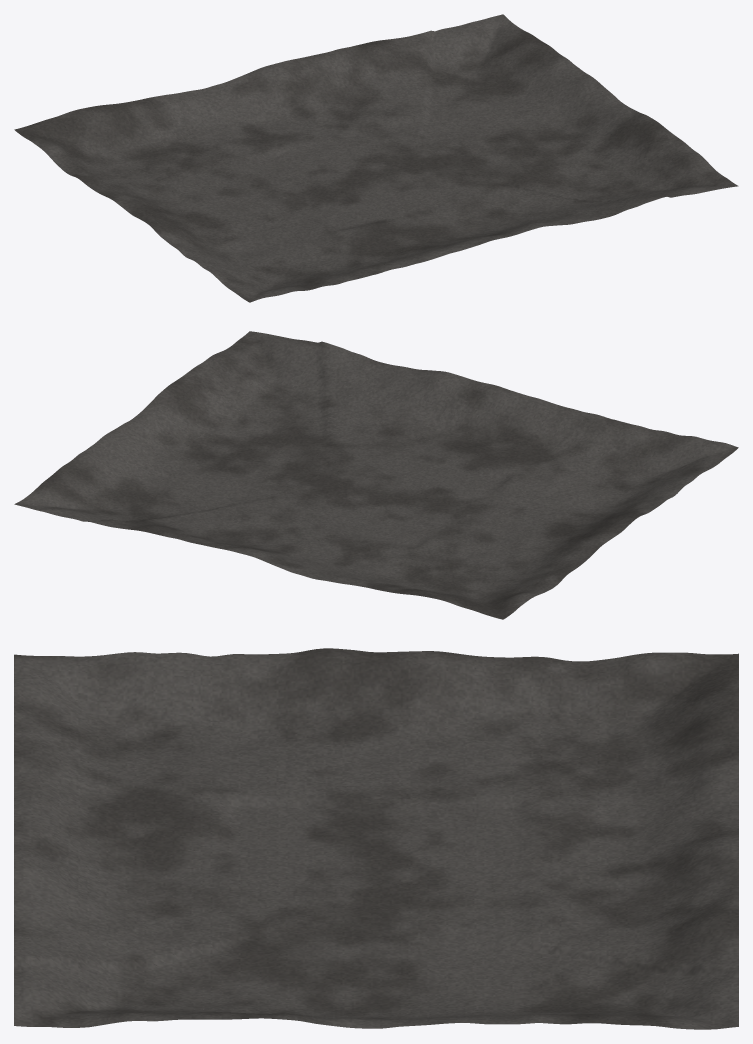
File: SM_Art_Terrain_L_DreamFight.gltf
The picture shows the model from 3 angles, top to bottom: view 1: azimuth 30°, elevation 25°; view 2: azimuth 150°, elevation 25°; view 3: azimuth 270°, elevation 25°; orthographic projection. The views are drawn at different scales.
Parts seen in each view (by area): view 1: SM_Art_Terrain_L_DreamFight; view 2: SM_Art_Terrain_L_DreamFight; view 3: SM_Art_Terrain_L_DreamFight.
Part boxes in pixels (<box>): SM_Art_Terrain_L_DreamFight: <box>14,14,738,302</box>; SM_Art_Terrain_L_DreamFight: <box>14,331,738,619</box>; SM_Art_Terrain_L_DreamFight: <box>14,648,738,1029</box>.
Bounding box in the file's own units: 230 × 12.66 × 192.
1 material, 1 textured.
